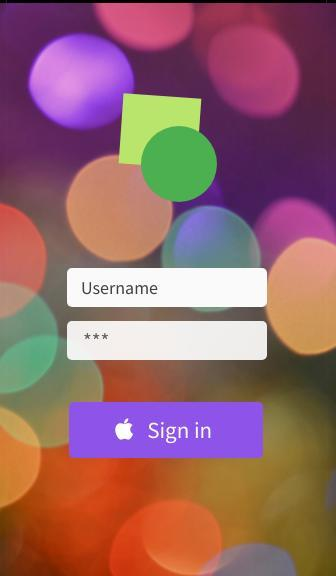button: (69, 402, 268, 458)
input: (67, 269, 270, 309), (68, 322, 268, 361)
